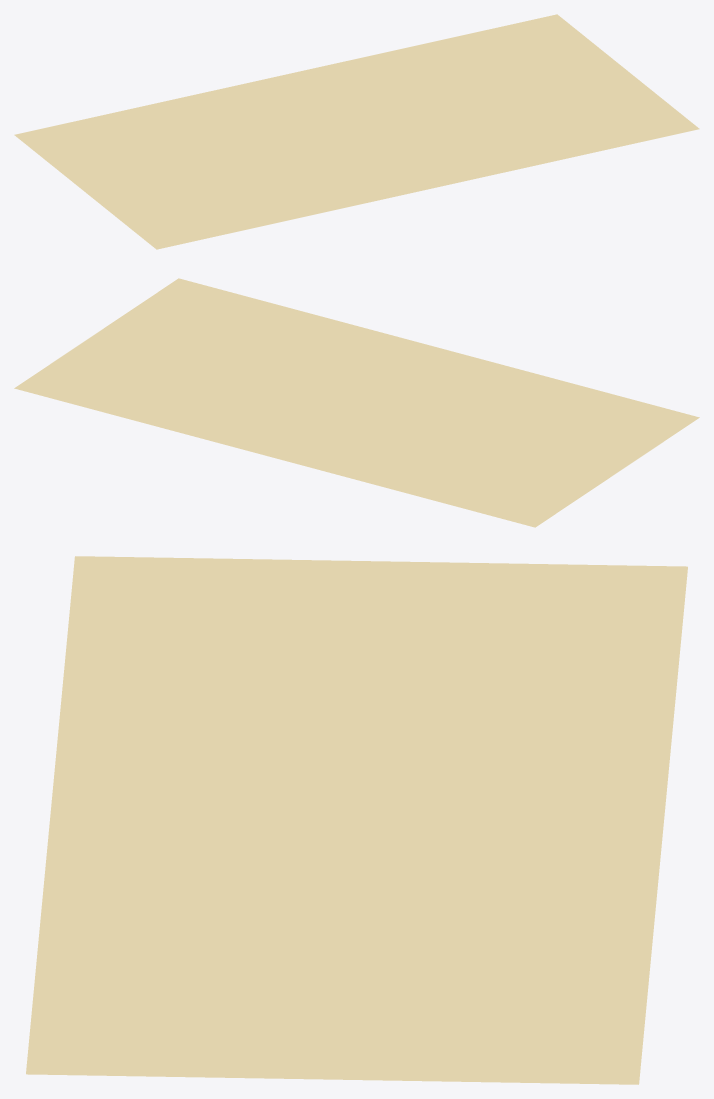
Rendered from 1938-Street-furniture-lamp-lens.glb.
3 views of the same model, one above another, from view 1: azimuth 30°, elevation 25°; view 2: azimuth 150°, elevation 25°; view 3: azimuth 270°, elevation 25° (orthographic). The views are drawn at different scales.
Visible parts, largest first — view 1: Street furniture/lamp lens; view 2: Street furniture/lamp lens; view 3: Street furniture/lamp lens.
Part boxes in pixels (bbox=[...]): Street furniture/lamp lens: bbox=[14, 14, 699, 249]; Street furniture/lamp lens: bbox=[14, 278, 699, 527]; Street furniture/lamp lens: bbox=[26, 556, 687, 1084].
Size of the model in its own units: 0.5707 by 0 by 0.3022.
